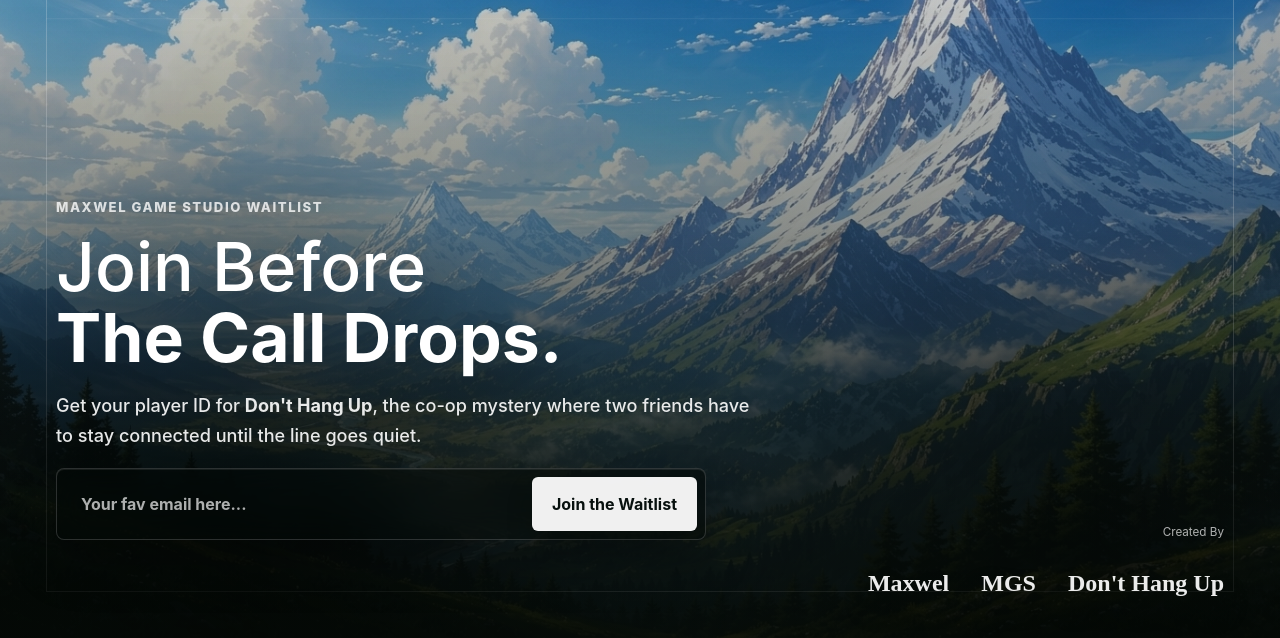
landing page reveal contract › mounts countdown and player id after a successful signup
This screenshot has width=1280, height=638.
Type "player@example.com" into the field labelled "Your fav email here...".
click(294, 504); type("player@example.com")  # box top-left (65, 477), bottom-right (523, 531)
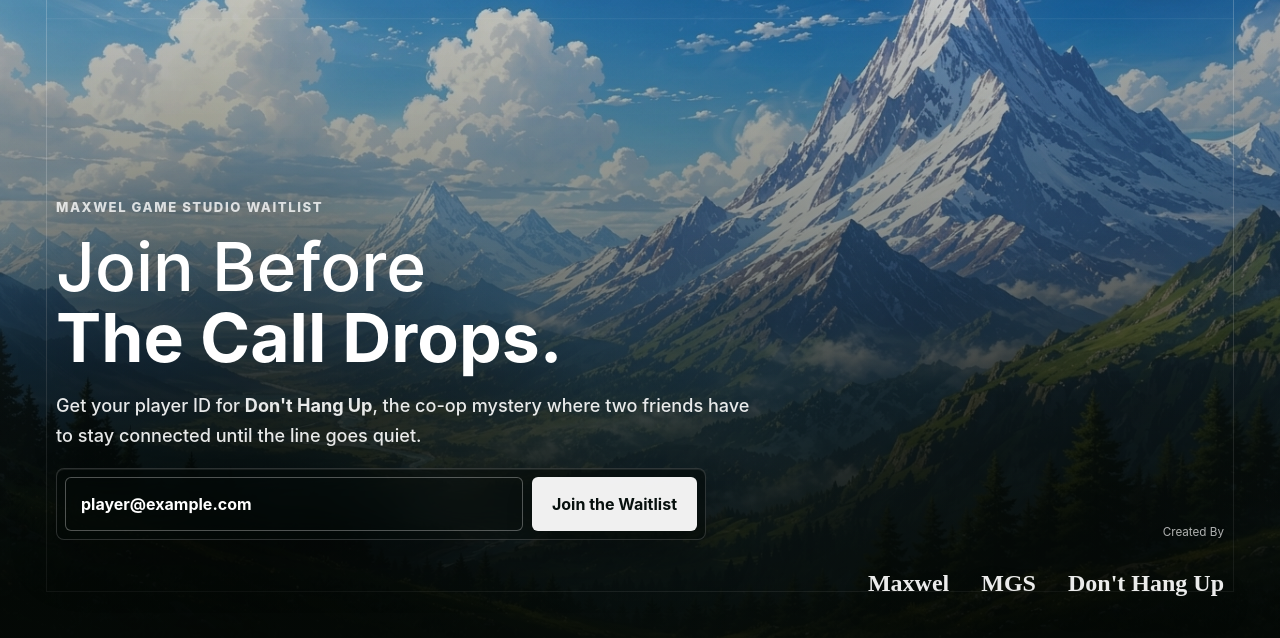
Click the button "Join the Waitlist".
click(614, 504)  # box top-left (532, 477), bottom-right (697, 531)
(page scrolled)
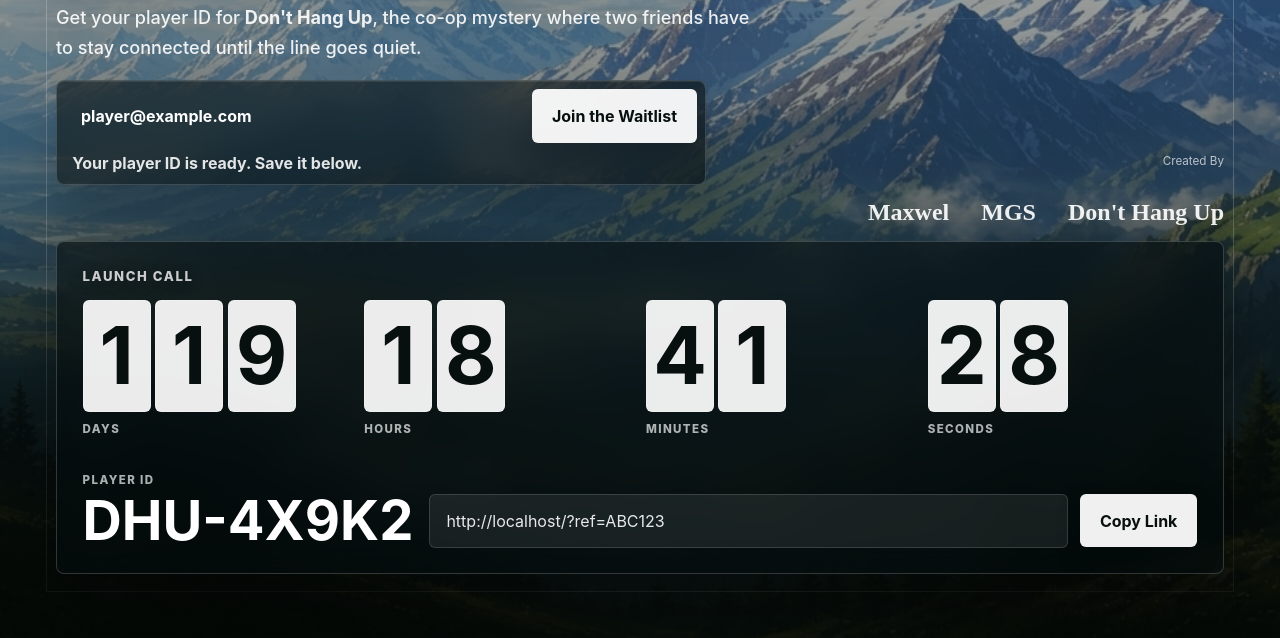
Expected: the element with test id "countdown" is shown, top-left (56, 241), bottom-right (1224, 574)
Expected: the text "DHU-4X9K2" is shown, top-left (83, 493), bottom-right (413, 548)
